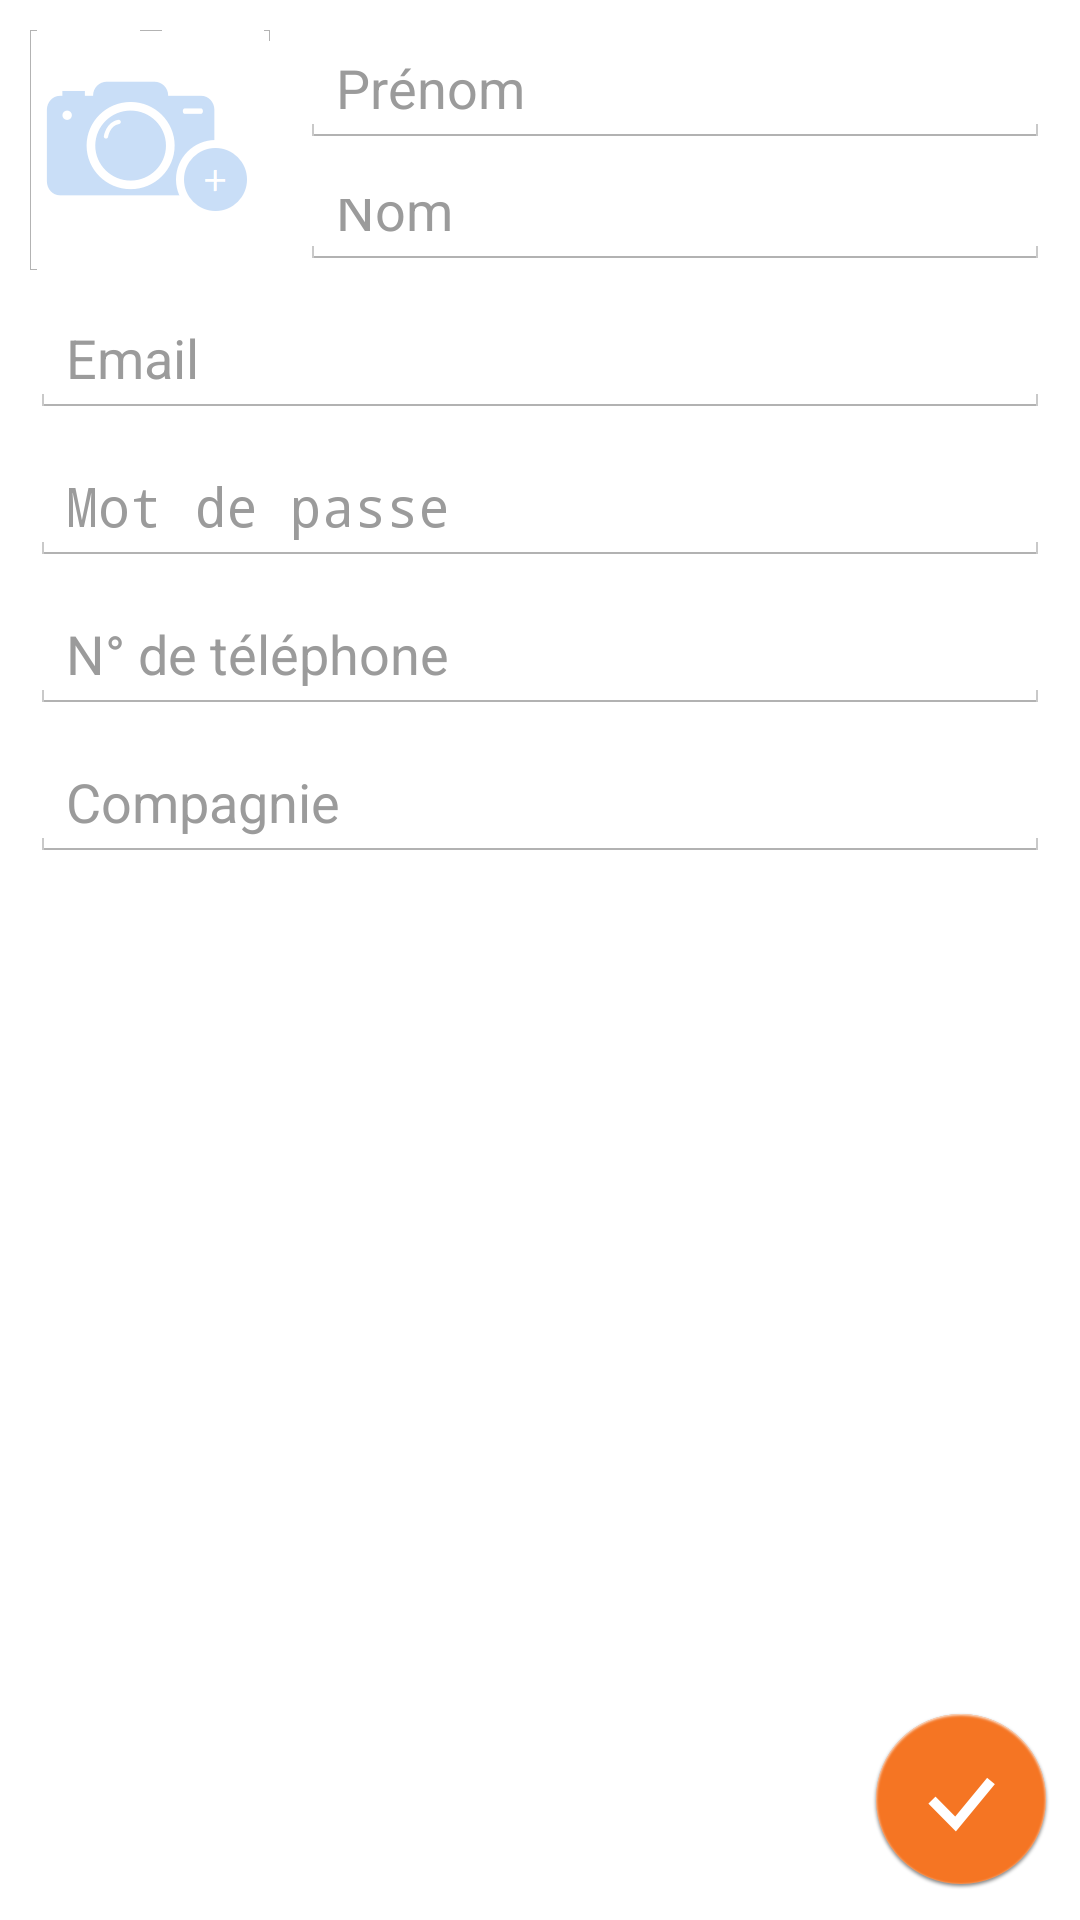

Icons on this 1080 x 1920 Android screen, each with the point to tap as [x,y]:
camera mini: [150,150]
validate: [961,1801]
